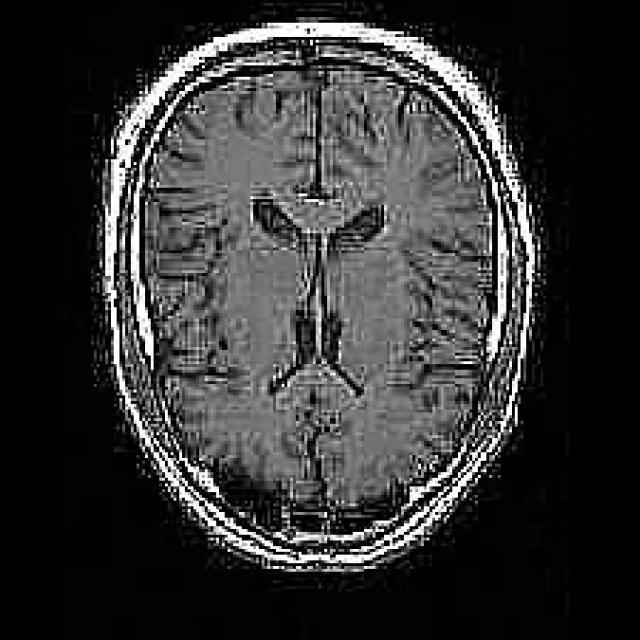notumor: (102, 23, 538, 577)
